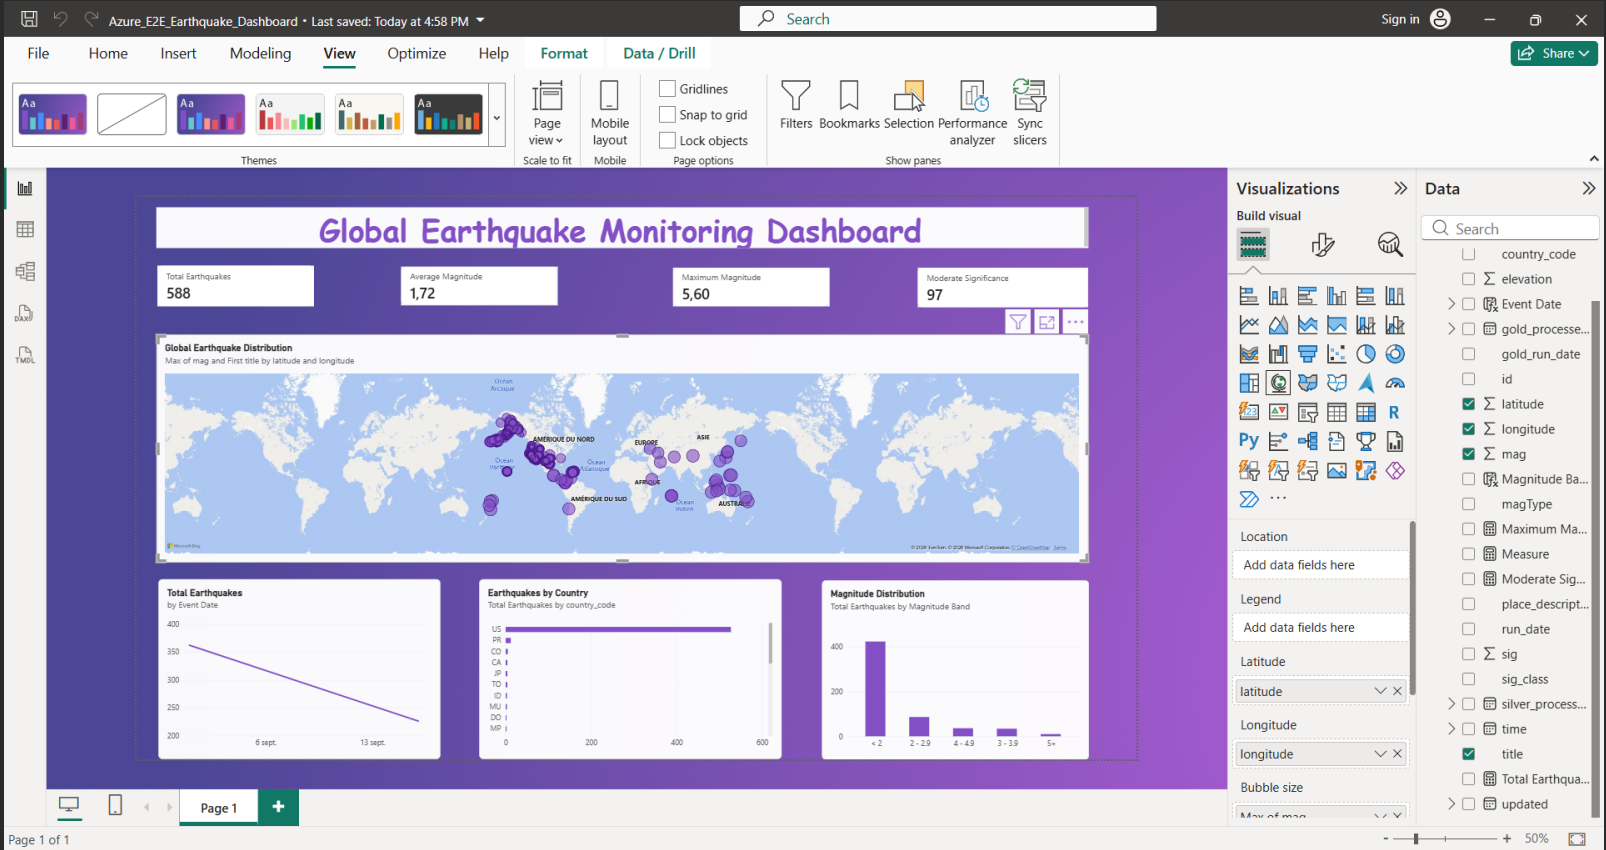

The dashboard page shown, as its layout file describes it:
{"tool":"powerbi","page":{"name":"Page 1","canvas":[1920,1080],"ordinal":0},"visuals":[{"type":"cardVisual","fields":{"Data":["vw_earthquakes.Total Earthquakes"]},"box":[40.4,131.9,300.5,78.2],"z":0},{"type":"cardVisual","fields":{"Data":["vw_earthquakes.Average Magnitude"]},"box":[508.5,134,300.5,74.1],"z":1000},{"type":"cardVisual","fields":{"Data":["vw_earthquakes.Maximum Magnitude"]},"box":[1029.8,136.2,300.5,74.1],"z":2000},{"type":"cardVisual","fields":{"Data":["vw_earthquakes.High Significance"]},"box":[1500,136.2,327.3,76.2],"z":3000},{"type":"map","title":"Global Earthquake Distribution","fields":{"Size":["Max(vw_earthquakes.mag)"],"X":["vw_earthquakes.longitude"],"Y":["vw_earthquakes.latitude"]},"box":[38.3,263.8,1789.4,438.3],"z":4000},{"type":"lineChart","fields":{"Category":["vw_earthquakes.Event Date"],"Y":["vw_earthquakes.Total Earthquakes"]},"box":[41.2,734.8,541.3,345.8],"z":5001},{"type":"barChart","title":"Earthquakes by Country","fields":{"Category":["vw_earthquakes.country_code"],"Y":["vw_earthquakes.Total Earthquakes"]},"box":[658.7,734.8,580.4,345.8],"z":5002},{"type":"clusteredColumnChart","title":"Magnitude Distribution","fields":{"Category":["vw_earthquakes.Magnitude Band"],"Y":["vw_earthquakes.Total Earthquakes"]},"box":[1315,735,513,345],"z":5003},{"type":"textbox","box":[38.3,19.1,1789.4,78.7],"z":5004}]}

Visuals, with their boxes on the page's 1920x1080 design canvas (x1, y1, x2, y2). These are canvas units, not pixel positions in the 1606x850 screenshot, which may show the page scaled, cropped or inside an application window:
cardVisual - vw_earthquakes.Total Earthquakes: <box>40,132,341,210</box>
cardVisual - vw_earthquakes.Average Magnitude: <box>508,134,809,208</box>
cardVisual - vw_earthquakes.Maximum Magnitude: <box>1030,136,1330,210</box>
cardVisual - vw_earthquakes.High Significance: <box>1500,136,1827,212</box>
"Global Earthquake Distribution" map: <box>38,264,1828,702</box>
lineChart - vw_earthquakes.Event Date x vw_earthquakes.Total Earthquakes: <box>41,735,582,1081</box>
"Earthquakes by Country" barChart: <box>659,735,1239,1081</box>
"Magnitude Distribution" clusteredColumnChart: <box>1315,735,1828,1080</box>
textbox: <box>38,19,1828,98</box>
